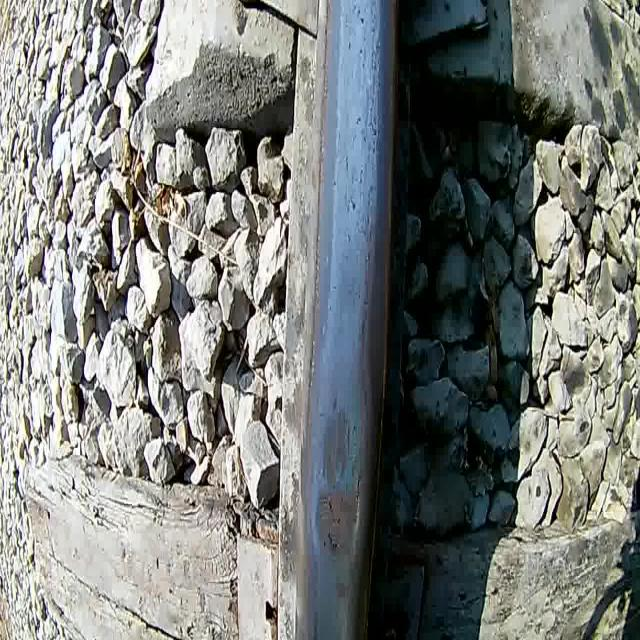Cracks: (354, 466, 363, 526)
Spallings: (325, 530, 342, 554), (324, 496, 334, 514)
Squats: (313, 482, 362, 562), (320, 392, 353, 490)
